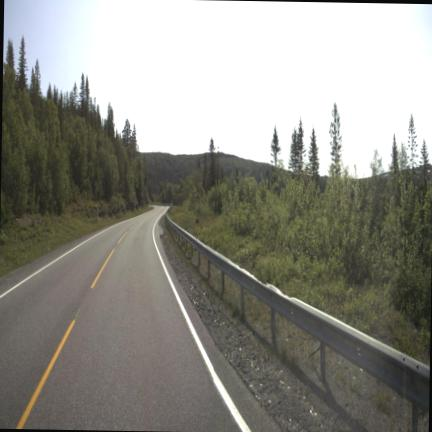Road: (0, 207, 276, 431)
